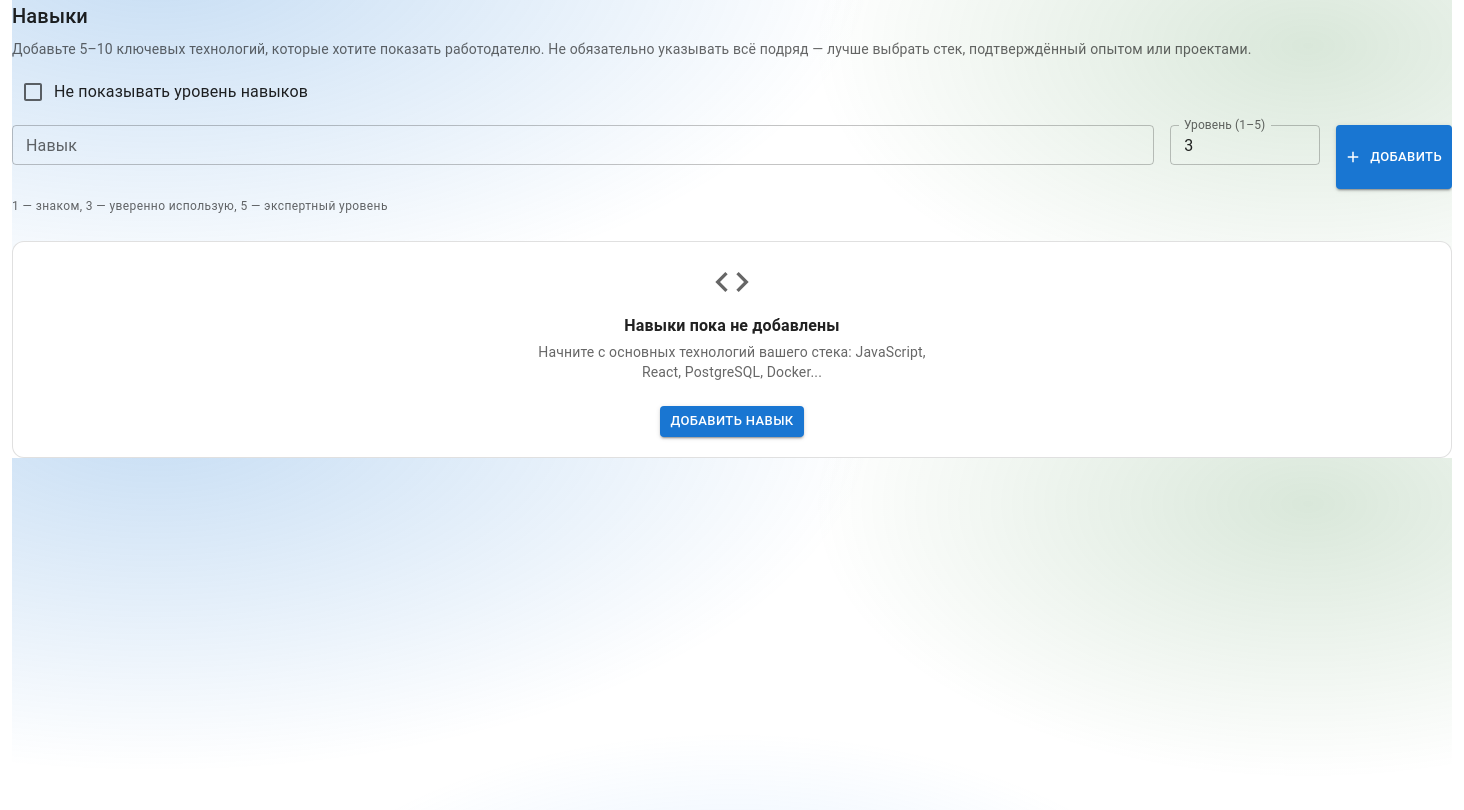
Scenario: SkillsBlock form validation › empty skill shows inline error
The width and height of the screenshot is (1464, 810).
What coordinates should you click on to do the following:
click the button "Добавить"
I would click on:
 (1394, 157)
Its box is left=1336, top=125, right=1452, bottom=189.
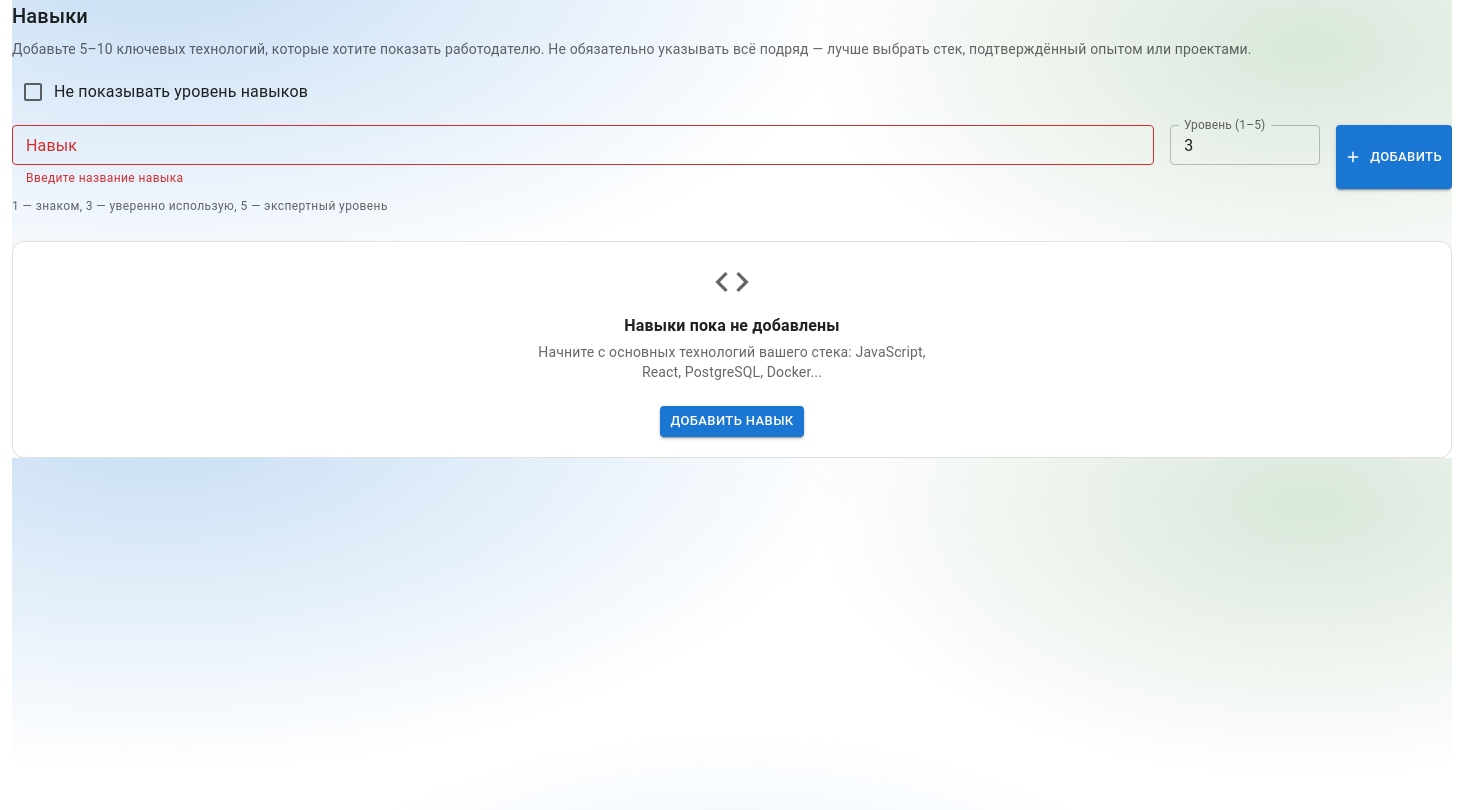
Expected: the text "Введите название навыка" is shown, left=26, top=171, right=184, bottom=185
